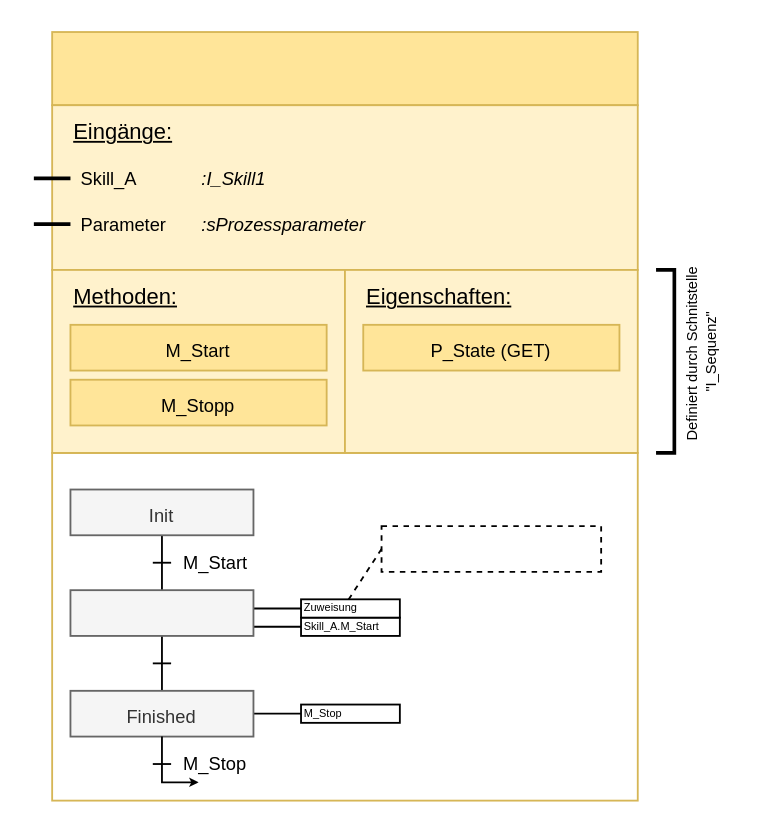
The diagram is 759 pixels wide and 833 high, and some of its shapes have lost their labels. Here are the shapes that lost their labels. From the top down, the centre of each, then its label:
At pixel 344 67: "Sequenz".
At pixel 490 548: "Skill_A.P_Prozessmarameter := Parameter".
At pixel 161 612: "Schritt_1".
